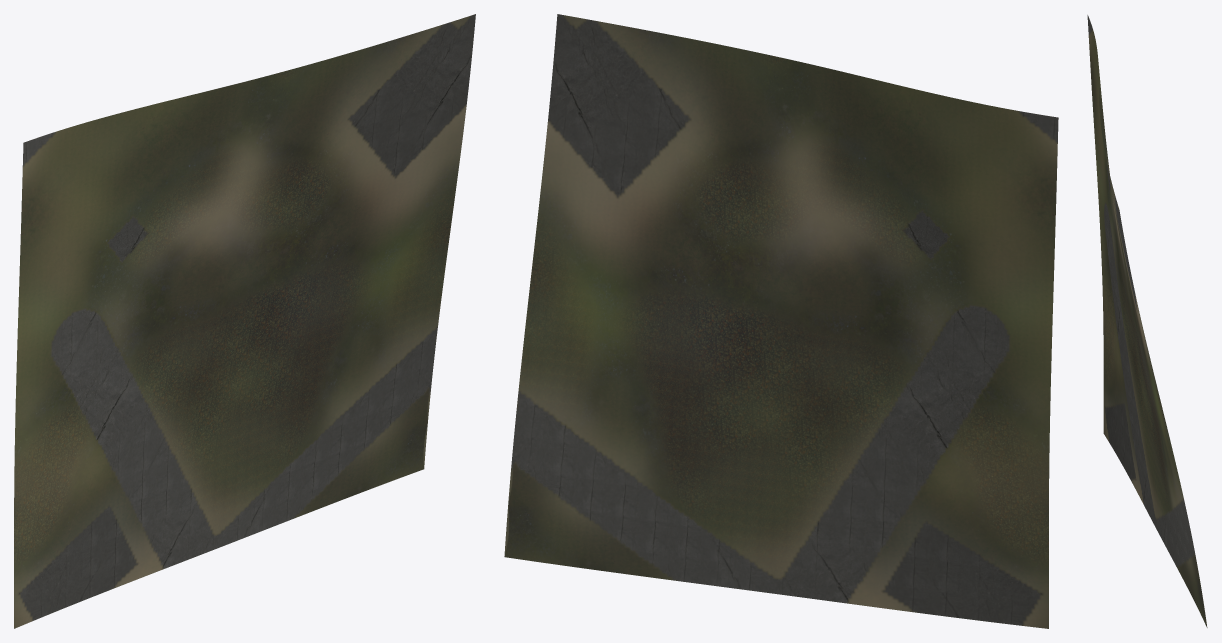
The model's file is ground_core_07_04.obj.
The picture shows the model from 3 angles, left to right: view 1: azimuth 30°, elevation 25°; view 2: azimuth 150°, elevation 25°; view 3: azimuth 270°, elevation 25°; orthographic projection. The views are drawn at different scales.
Parts seen in each view (by area): view 1: ground_core_07_04; view 2: ground_core_07_04; view 3: ground_core_07_04.
Boxes of the visible parts, <box> form: ground_core_07_04: <box>14,14,475,628</box>; ground_core_07_04: <box>504,14,1058,628</box>; ground_core_07_04: <box>1087,15,1207,627</box>.
Bounding box in the file's own units: 50 × 50 × 12.97.
1 material, 1 textured.
